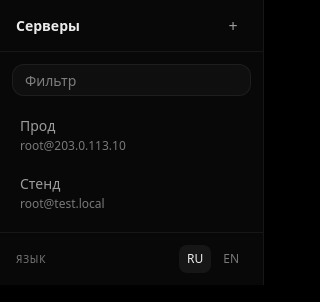
Test: поиск › ищет по хосту
This screenshot has width=320, height=302.
Type "203.0" into the field labelled "Фильтр" at (132, 80), box [12,64,251,96]
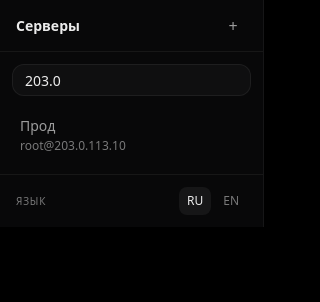
Expected: the text "Прод" is shown, [20,116,56,135]
Result: the button "Стенд" is gone
